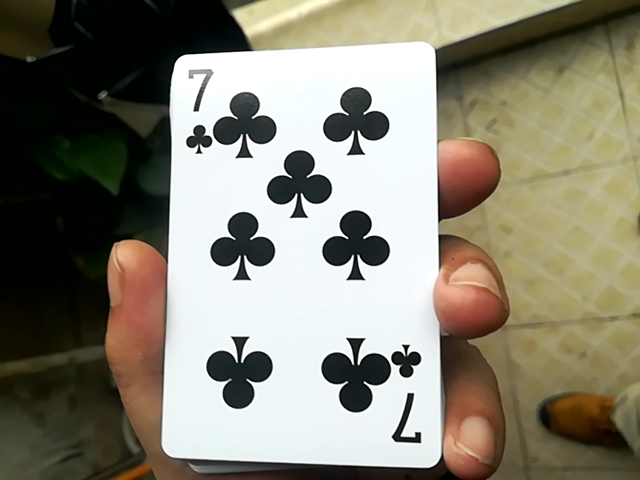mh 7: (146, 44, 448, 479)
